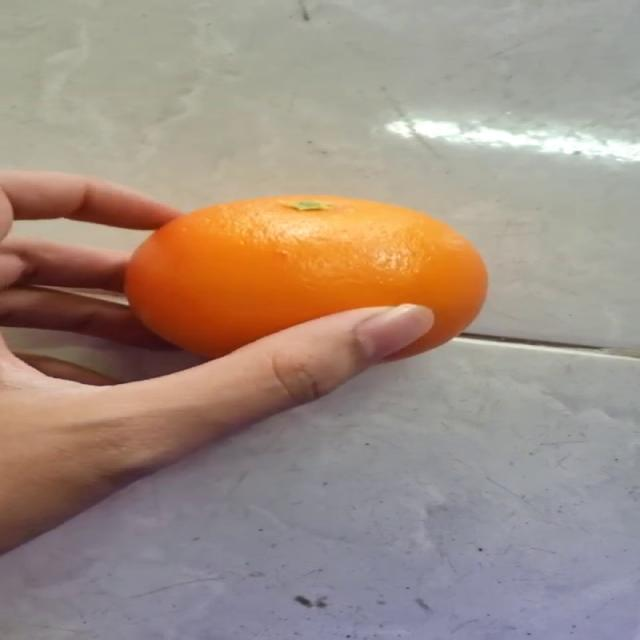Orange: (123, 192, 489, 362)
